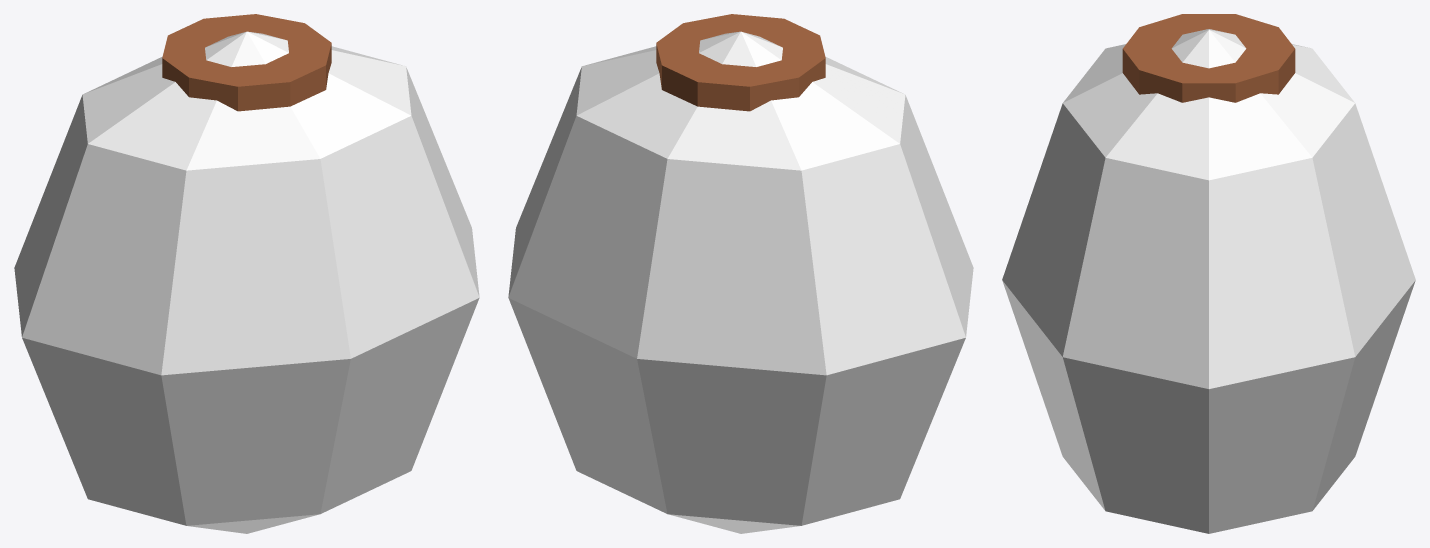
Rendered from Item_Salt_v001.fbx.
3 renders of one model, left to right at view 1: azimuth 30°, elevation 25°; view 2: azimuth 150°, elevation 25°; view 3: azimuth 270°, elevation 25°, orthographic.
Parts seen in each view (by area): view 1: SaltBag, BagTie; view 2: SaltBag, BagTie; view 3: SaltBag, BagTie.
Boxes of the visible parts, x1,y1,x2,y2 form: SaltBag: [14, 31, 479, 533]; BagTie: [162, 14, 331, 111]; SaltBag: [508, 31, 973, 533]; BagTie: [656, 14, 825, 111]; SaltBag: [1002, 29, 1415, 533]; BagTie: [1122, 14, 1295, 102].
Bounding box in the file's own units: 15 × 16 × 12.
